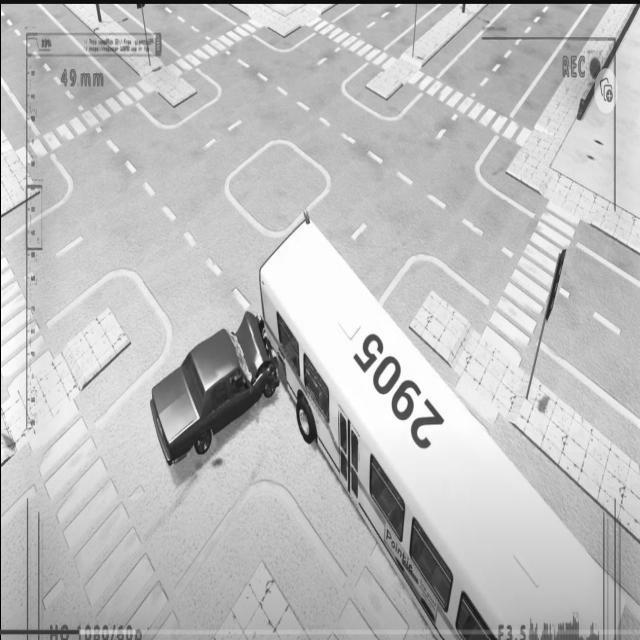accident: (145, 299, 287, 467)
